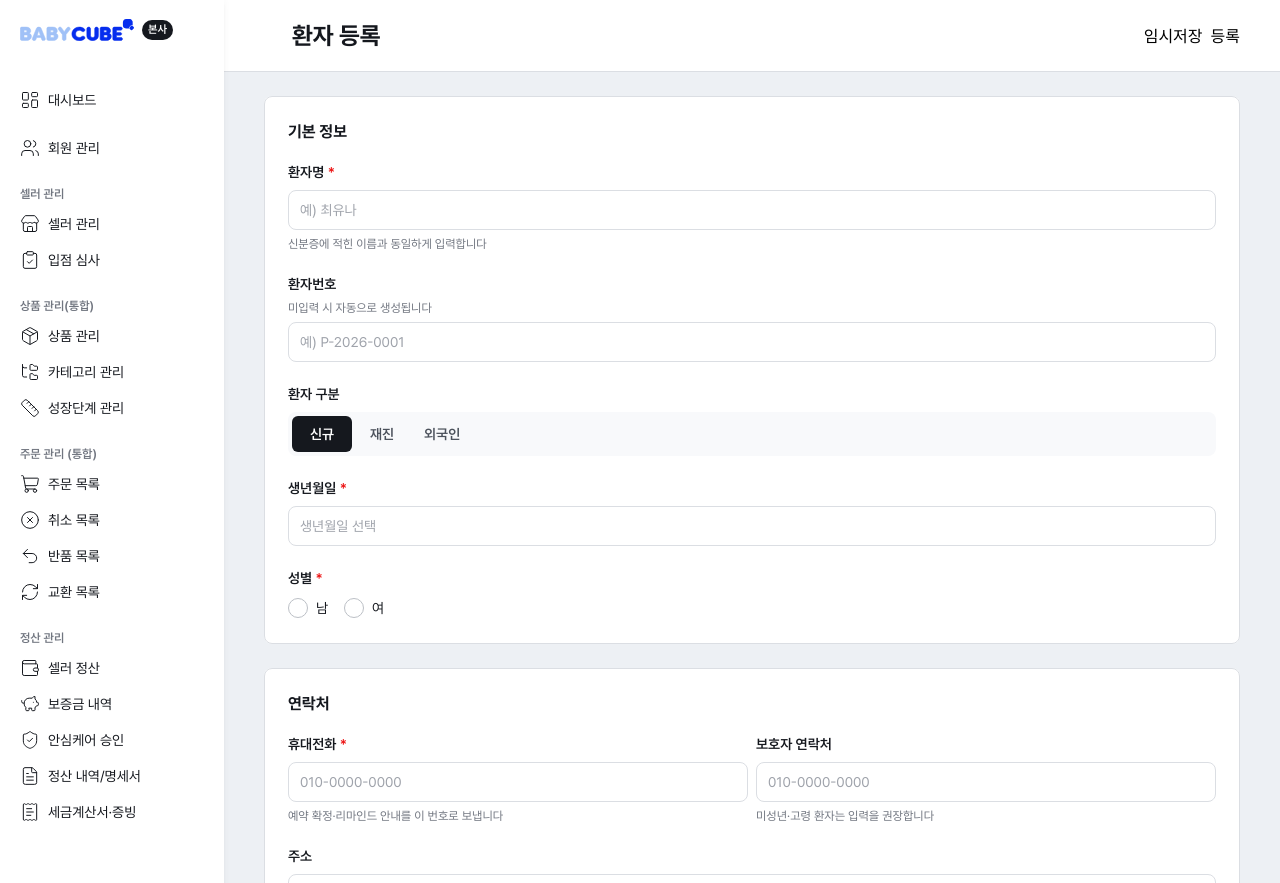
PatientFormPage › 필수 검증 › 환자명을 비운 채 blur 하면 에러가 도움말을 대체한다
Expected: the text "신분증에 적힌 이름과 동일하게 입력합니다" is shown, [288,237,487,251]
Click the field labelled "환자명". click: point(752, 210)
box: [300,198,1204,222]
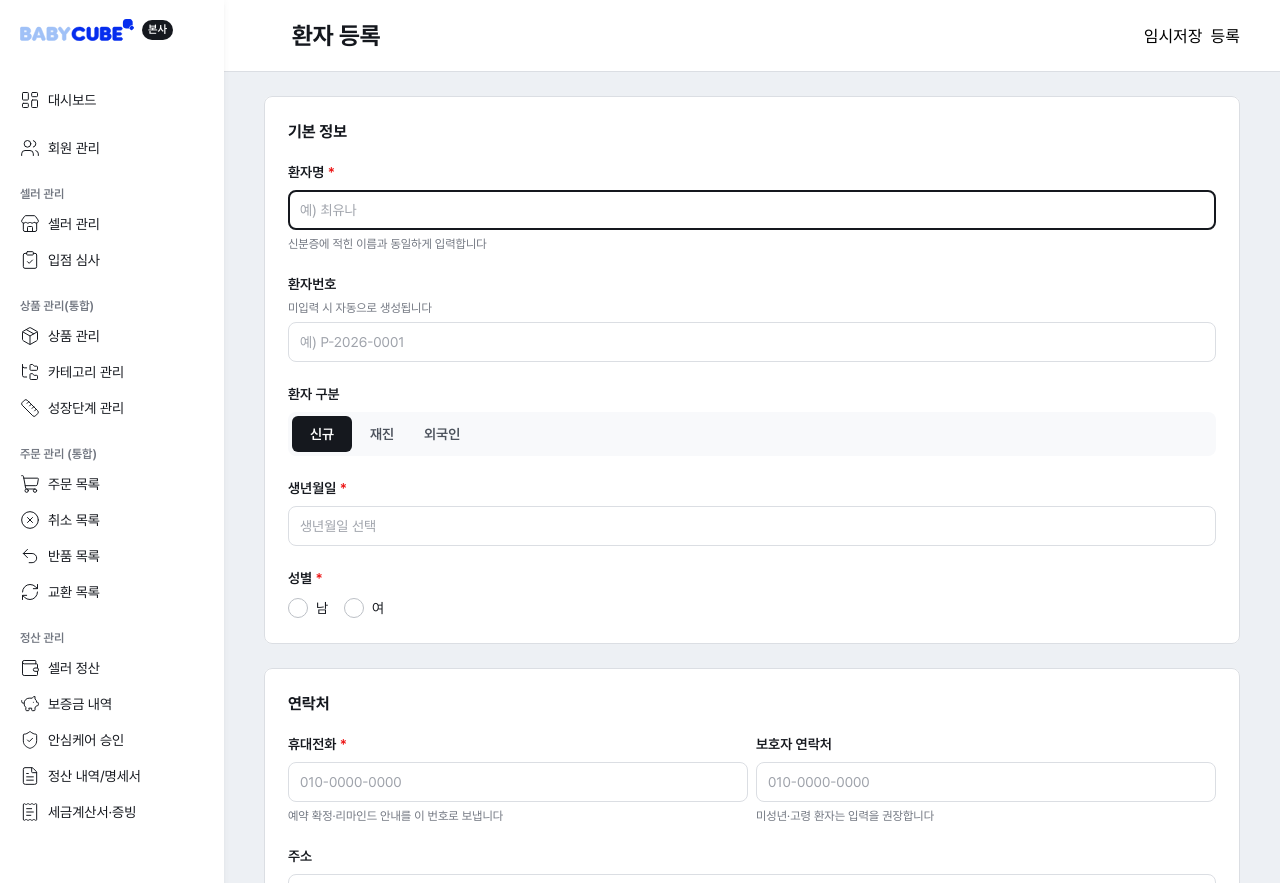
Press Tab
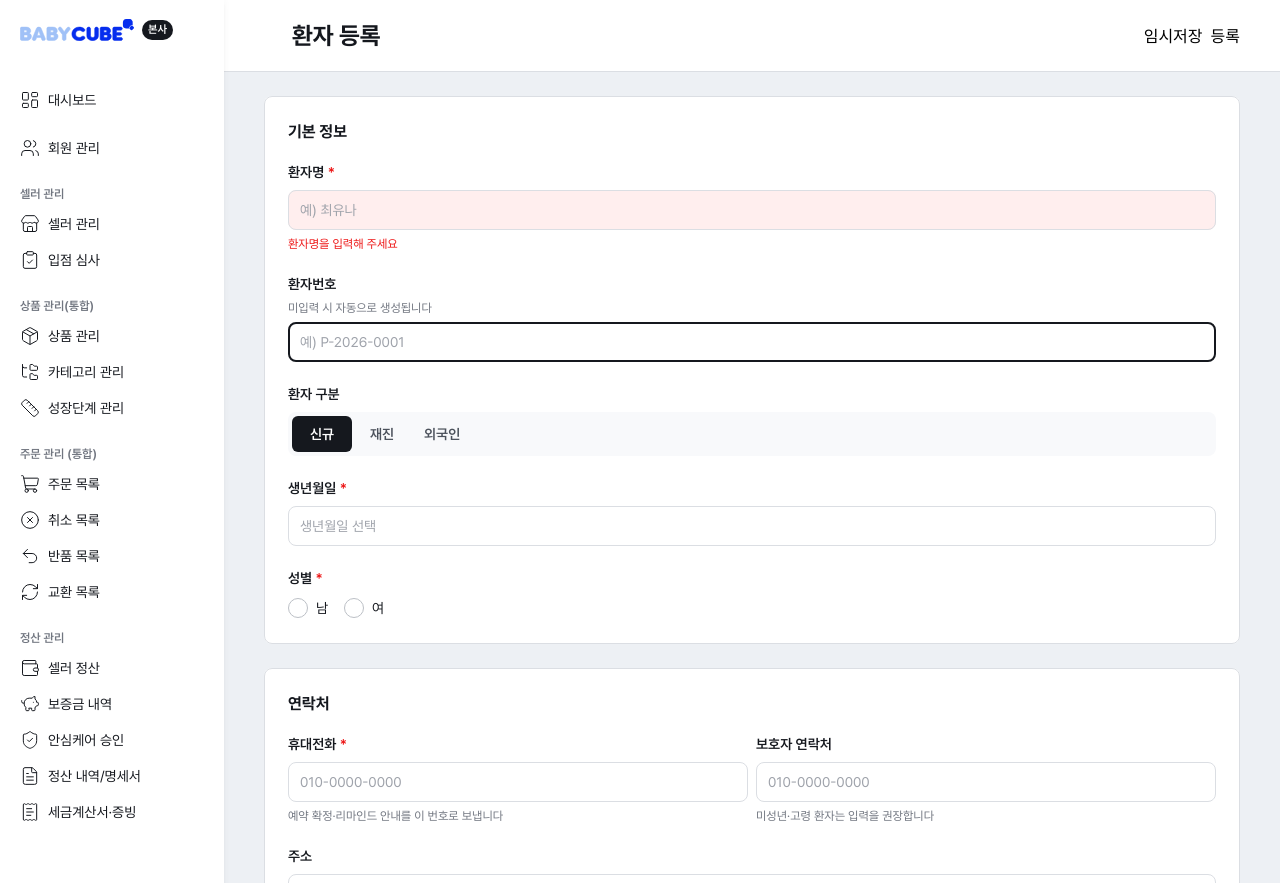
Result: the message reads "환자명을 입력해 주세요" at [288,237,398,251]
Result: the text "신분증에 적힌 이름과 동일하게 입력합니다" is gone
